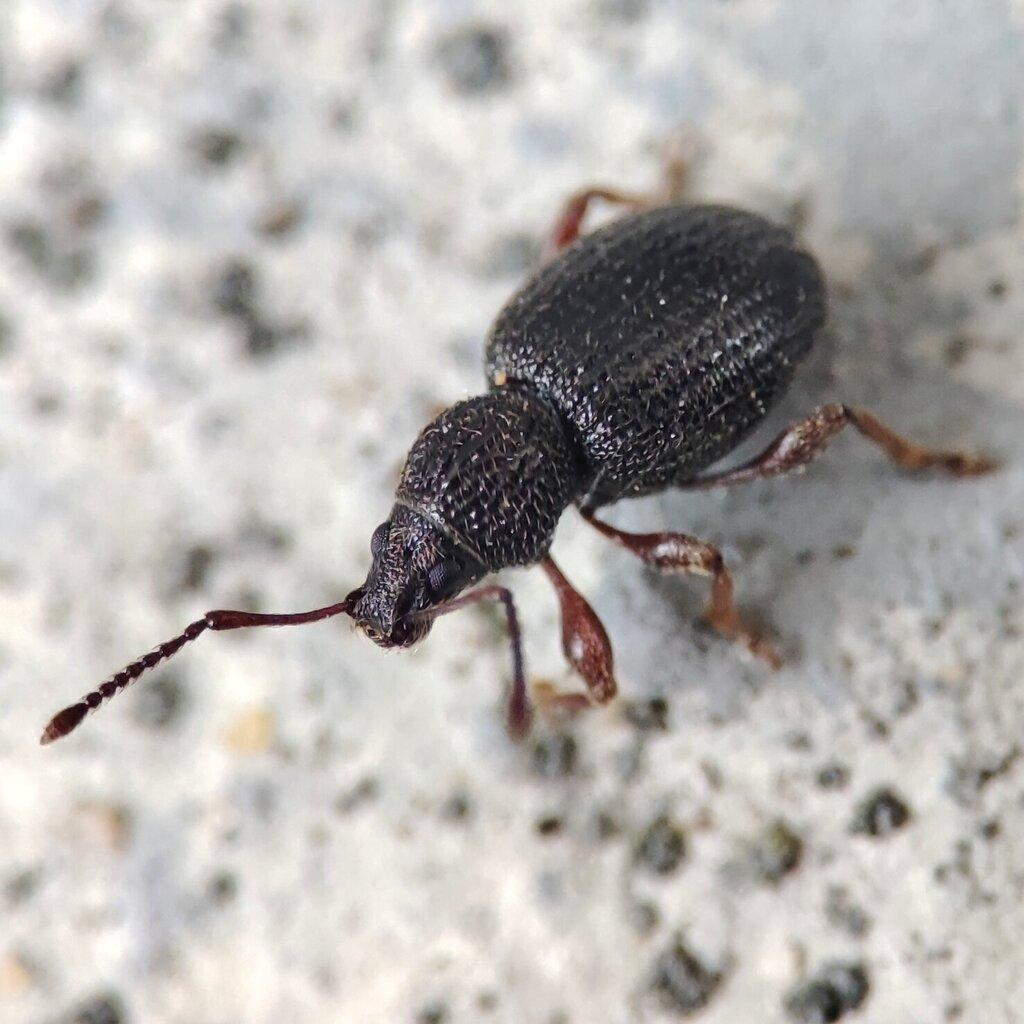weevils: (0, 67, 1024, 969)
